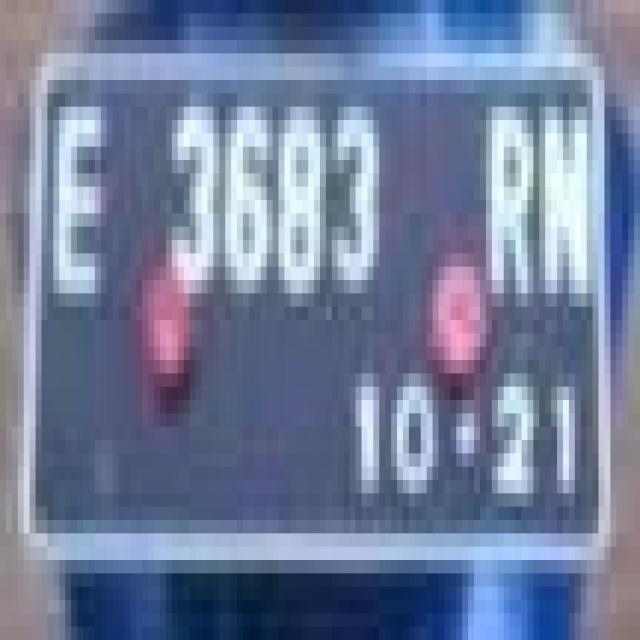3: (322, 73, 382, 327), (160, 94, 220, 294)
6: (219, 93, 279, 320)
8: (278, 93, 326, 320)
E: (53, 106, 107, 306)
N: (536, 87, 596, 340)
R: (479, 100, 534, 327)
